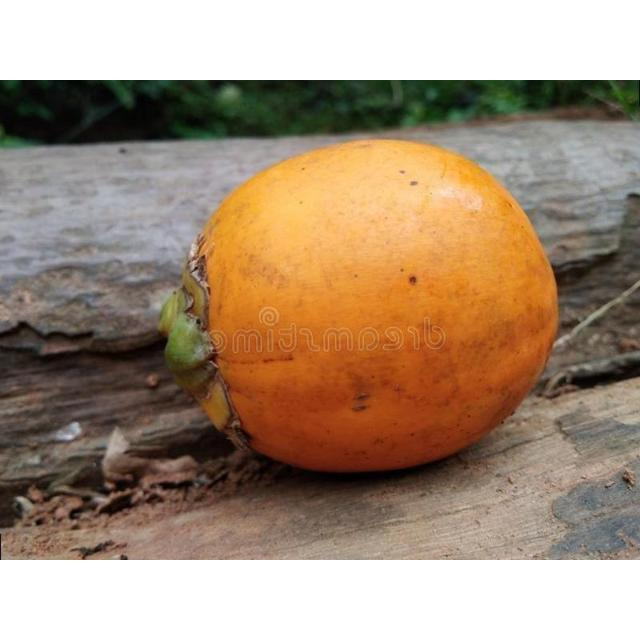good: (160, 138, 560, 476)
